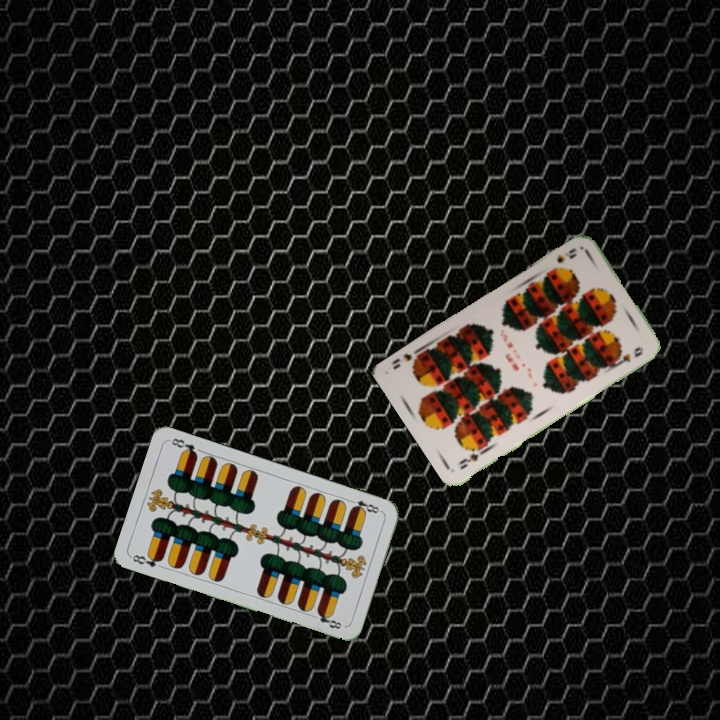E8: (345, 495, 384, 516), (127, 550, 165, 570)
S9: (455, 443, 489, 472), (552, 244, 579, 266)
